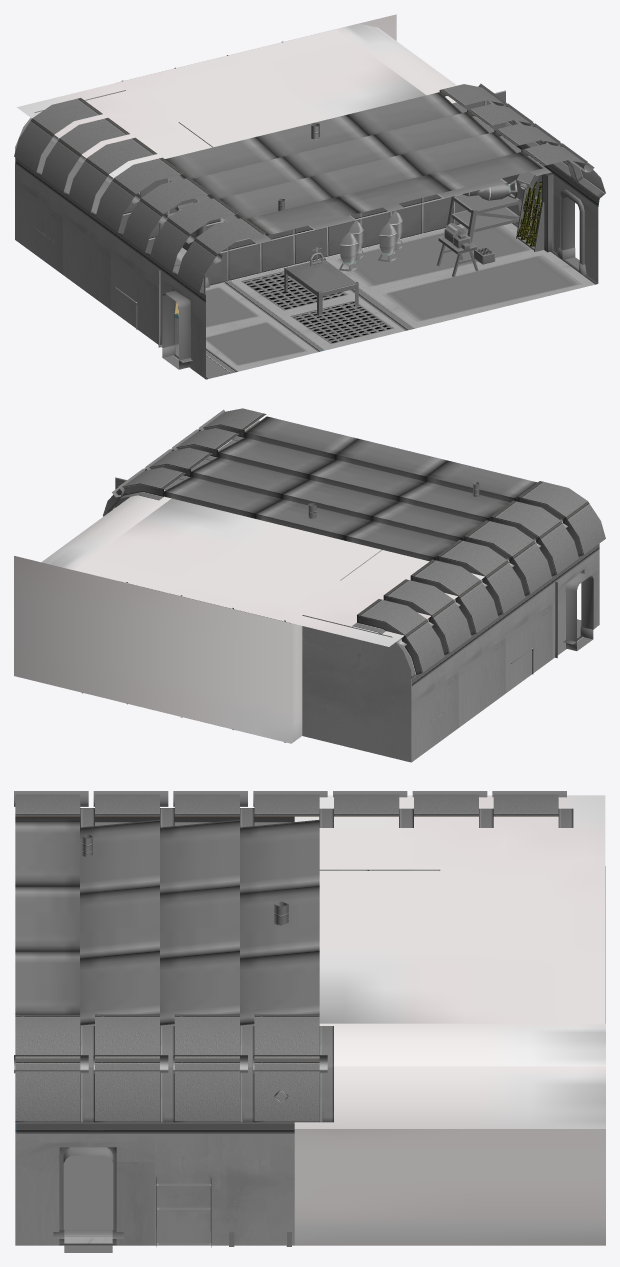
File: MSH_Armory_room_L1_R2_optimized.fbx
3 renders of one model, top to bottom at view 1: azimuth 30°, elevation 25°; view 2: azimuth 150°, elevation 25°; view 3: azimuth 270°, elevation 25°, orthographic. The views are drawn at different scales.
Visible parts, largest first — view 1: lightmap1, lightmap-1; view 2: lightmap1, lightmap-1; view 3: lightmap1, lightmap-1.
Boxes of the visible parts, x1,y1,x2,y2 form: lightmap1: (14, 14, 605, 379); lightmap-1: (162, 195, 579, 369); lightmap1: (14, 408, 605, 762); lightmap-1: (565, 573, 593, 650); lightmap1: (14, 791, 605, 1247); lightmap-1: (63, 1147, 113, 1252).
Size of the model in its own units: 20.62 by 6.7 by 17.49.
